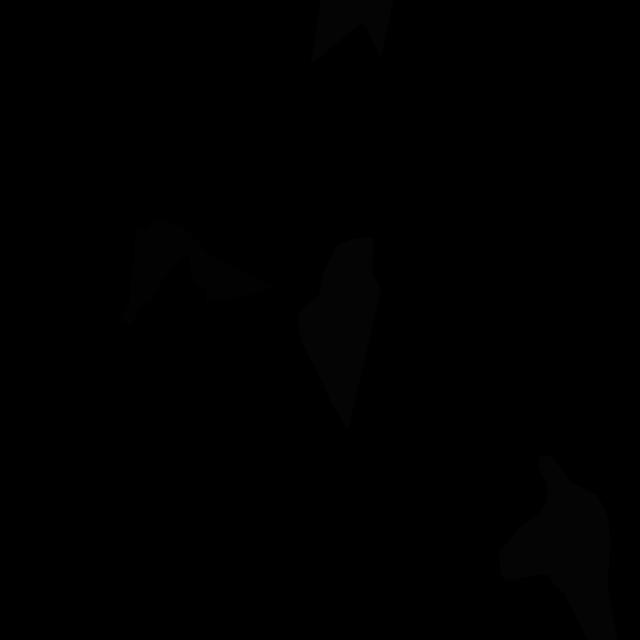cardboard: (118, 219, 276, 324)
soft_plastic: (499, 455, 618, 640), (298, 237, 382, 431), (311, 0, 394, 65)
